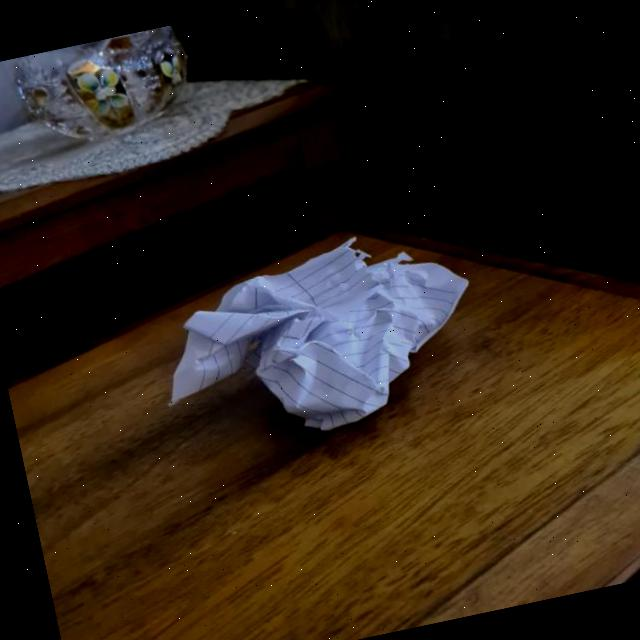trash: (164, 221, 486, 458)
